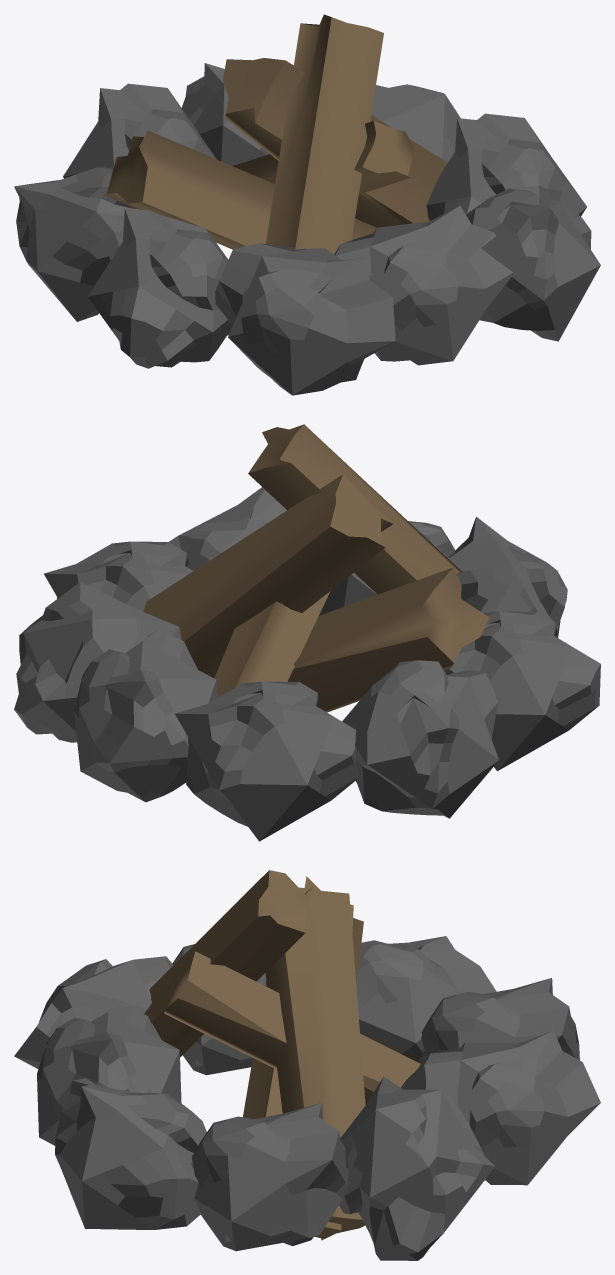
The model's file is model_campfire.fbx.
3 renders of one model, top to bottom at view 1: azimuth 30°, elevation 25°; view 2: azimuth 150°, elevation 25°; view 3: azimuth 270°, elevation 25°, orthographic.
Visible parts, largest first — view 1: polySurface13; view 2: polySurface13; view 3: polySurface13.
Part boxes in pixels (box(x1,y1,x2,y2)): polySurface13: box(14, 14, 600, 395); polySurface13: box(14, 424, 600, 841); polySurface13: box(14, 870, 600, 1260).
Size of the model in its own units: 7.94 by 4.98 by 8.23.
